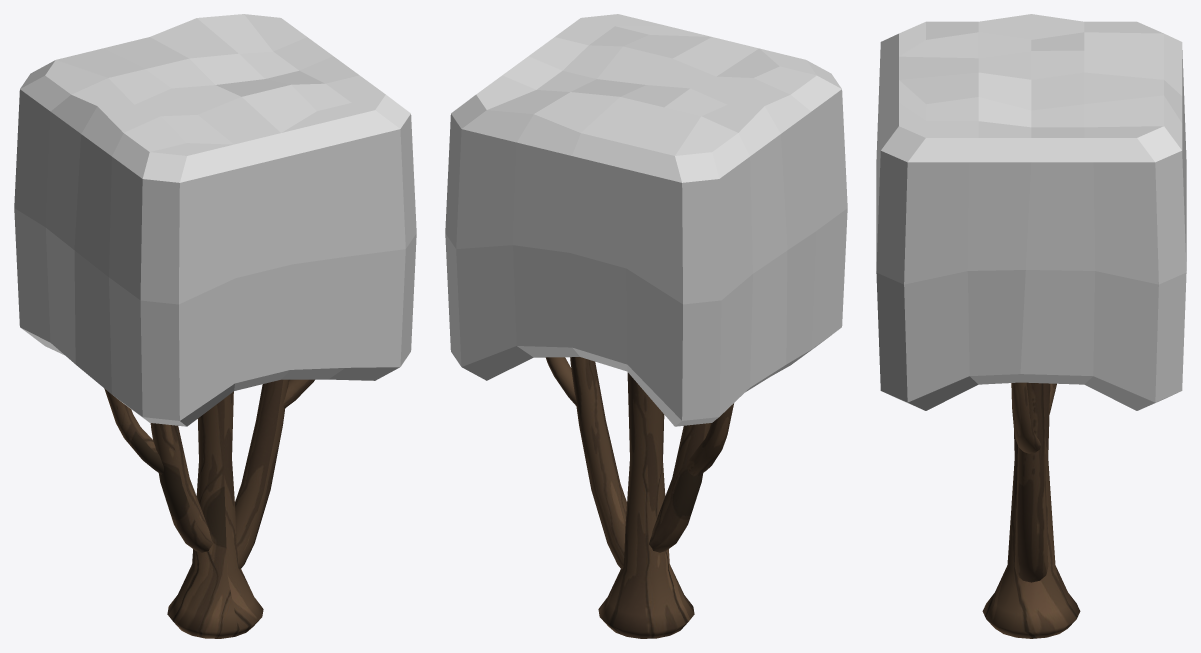
The model's file is swamp_trees_2.fbx.
3 views of the same model, side by side, from view 1: azimuth 30°, elevation 25°; view 2: azimuth 150°, elevation 25°; view 3: azimuth 270°, elevation 25° (orthographic).
Visible parts, largest first — view 1: Cube, BezierCurve.003; view 2: Cube, BezierCurve.003; view 3: Cube, BezierCurve.003.
Boxes of the visible parts, left/top/right/bottom form: Cube: left=14, top=14, right=416, bottom=426; BezierCurve.003: left=104, top=379, right=314, bottom=638; Cube: left=445, top=14, right=847, bottom=426; BezierCurve.003: left=545, top=357, right=733, bottom=638; Cube: left=876, top=14, right=1186, bottom=410; BezierCurve.003: left=982, top=382, right=1080, bottom=638.
Bounding box in the file's own units: 166 × 308 × 157.
